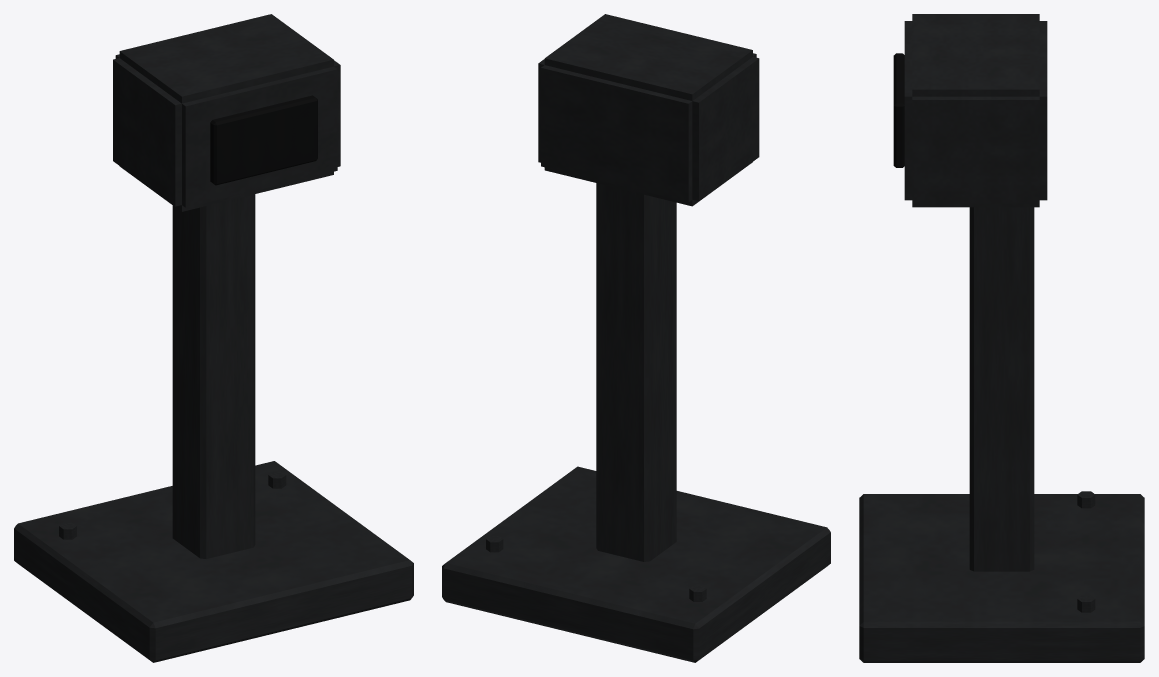
The model's file is HarborEmitter.fbx.
The picture shows the model from 3 angles, left to right: view 1: azimuth 30°, elevation 25°; view 2: azimuth 150°, elevation 25°; view 3: azimuth 270°, elevation 25°; orthographic projection. The views are drawn at different scales.
Visible parts, largest first — view 1: HarborEmitter.001; view 2: HarborEmitter.001; view 3: HarborEmitter.001.
Part boxes in pixels (x1,y1,x2,y2): HarborEmitter.001: [14, 14, 413, 662]; HarborEmitter.001: [442, 14, 830, 662]; HarborEmitter.001: [859, 14, 1144, 662].
Size of the model in its own units: 0.48 by 0.93 by 0.44.
